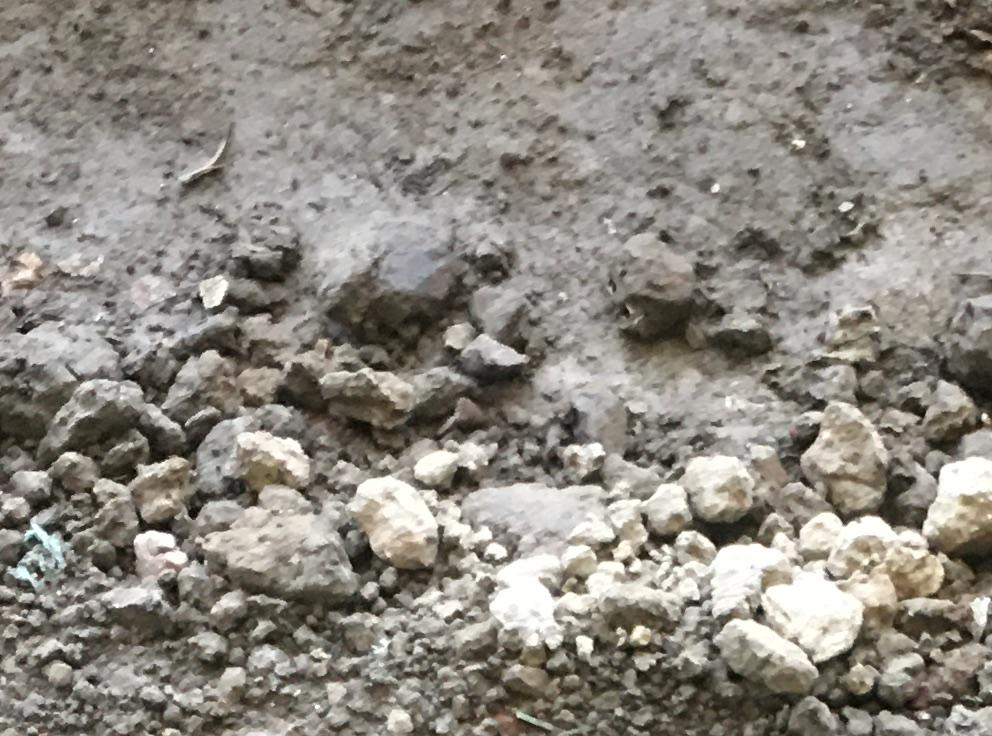block: (197, 509, 357, 602), (801, 398, 884, 518), (608, 230, 694, 345), (761, 570, 861, 662), (37, 380, 142, 463), (352, 470, 437, 570), (923, 455, 992, 557), (683, 449, 754, 526)
